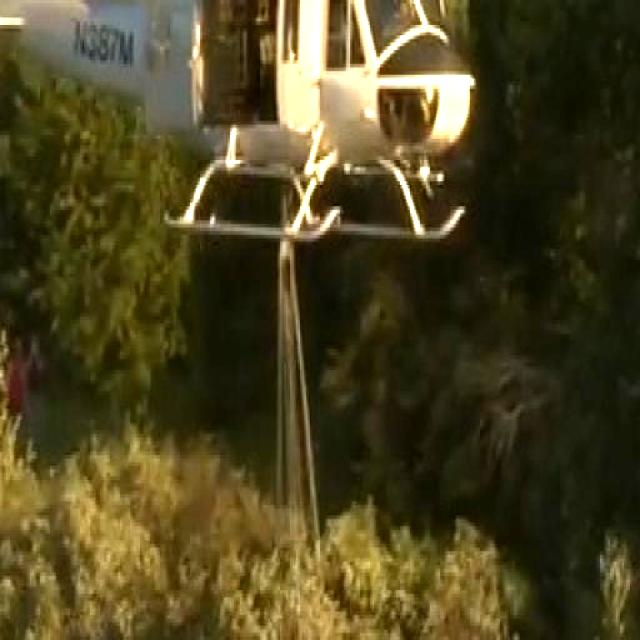drone: (0, 0, 536, 270)
